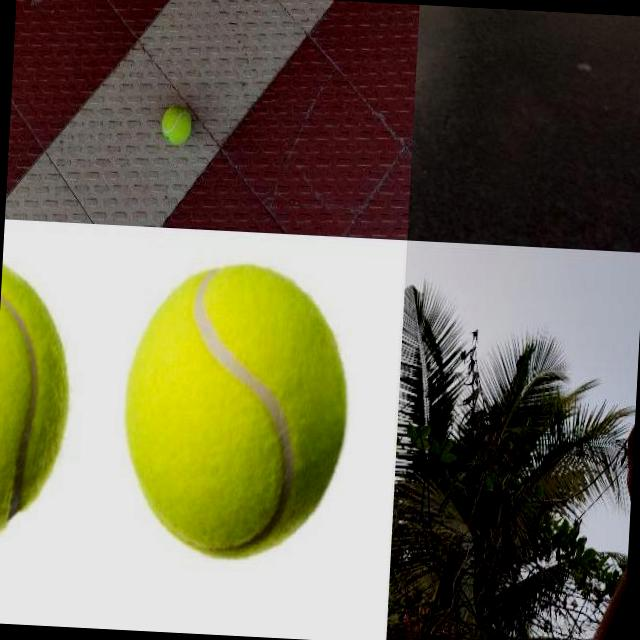tennis-ball: (116, 256, 354, 565), (0, 254, 75, 552), (161, 104, 192, 144)
